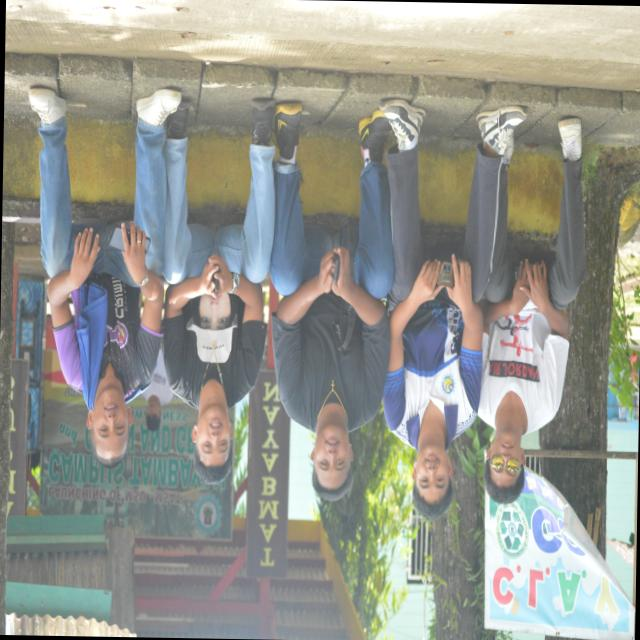person: (380, 99, 526, 519), (29, 87, 180, 466), (270, 102, 394, 499), (163, 98, 275, 483), (479, 117, 586, 502), (143, 349, 173, 430)
